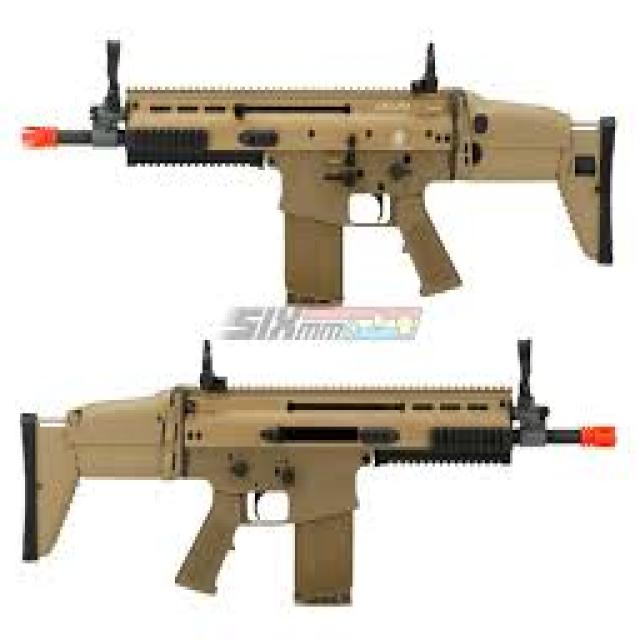Gun: (30, 24, 640, 324), (11, 348, 623, 618)
